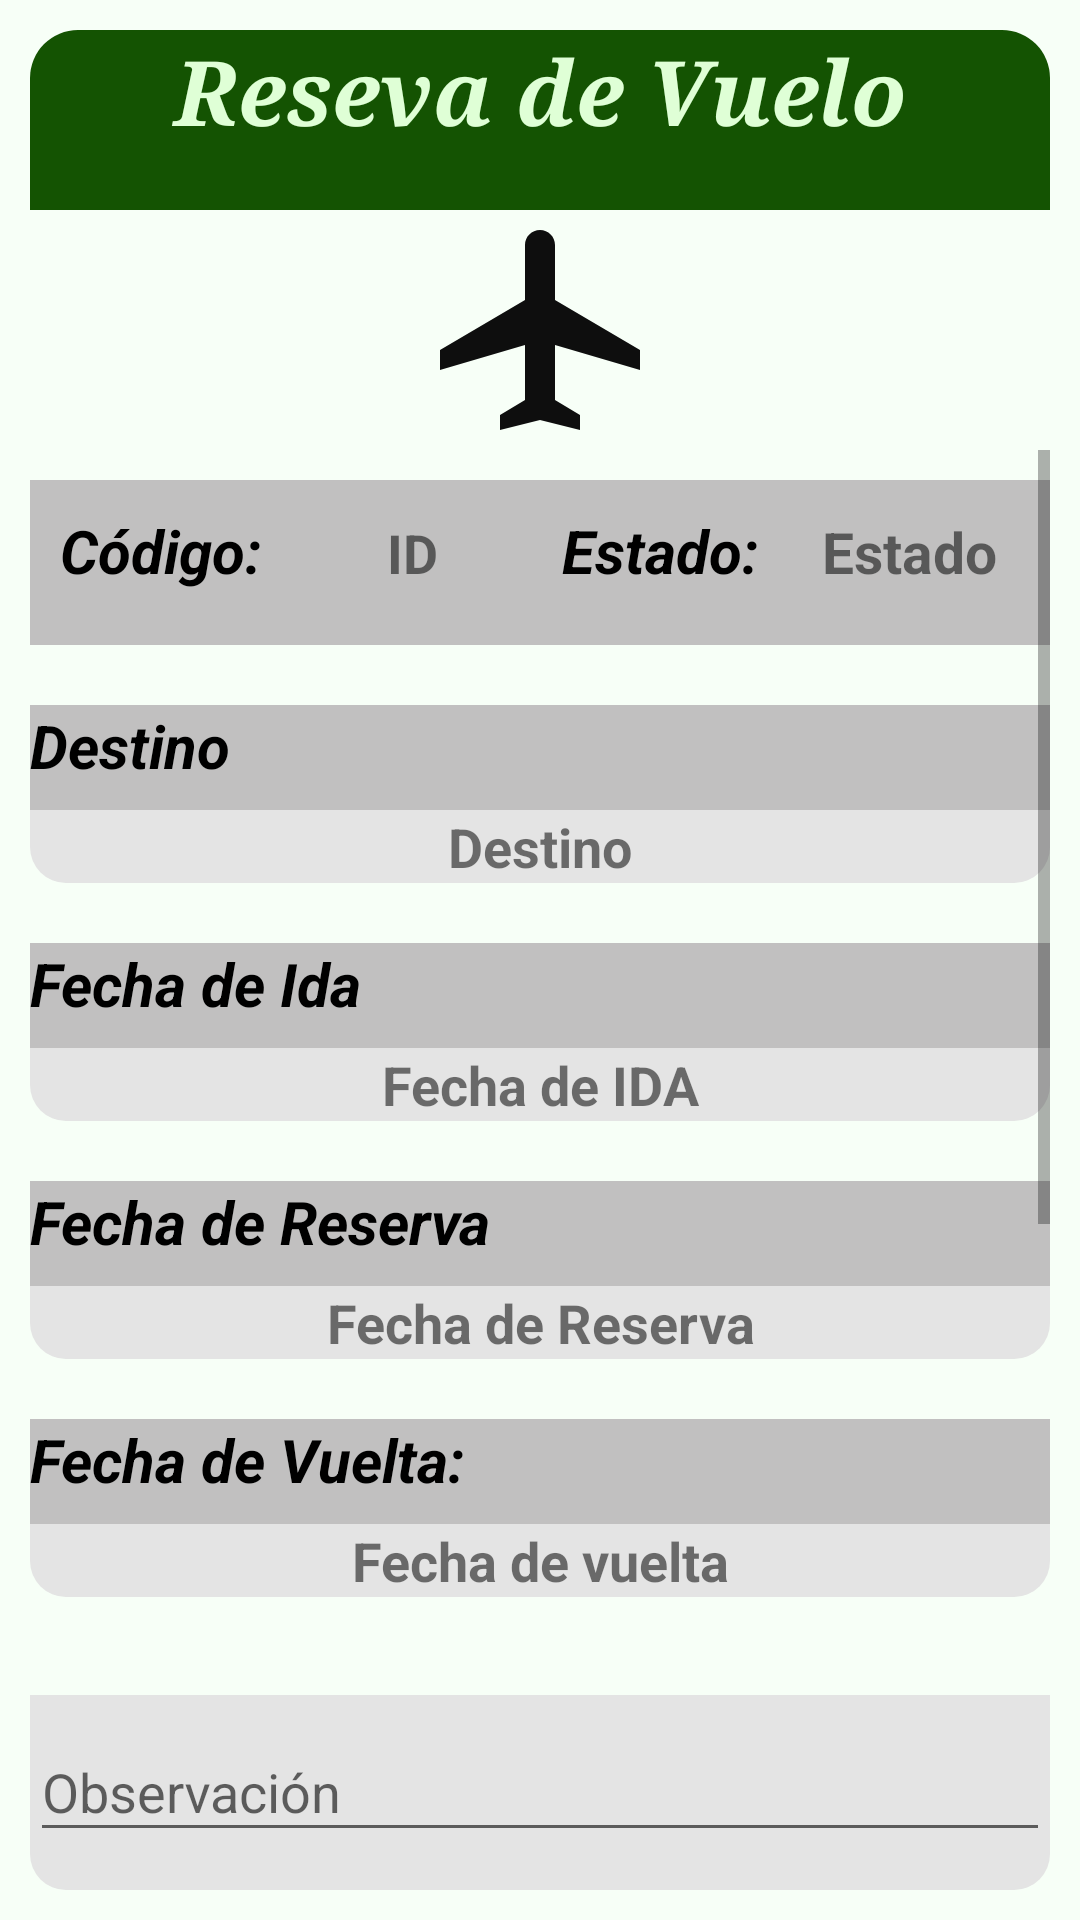

Locate icon controls on the screen. Image size 1080×1920, boxes as (x1, y1, x2, y2).
local airport: (440, 230, 640, 430)
